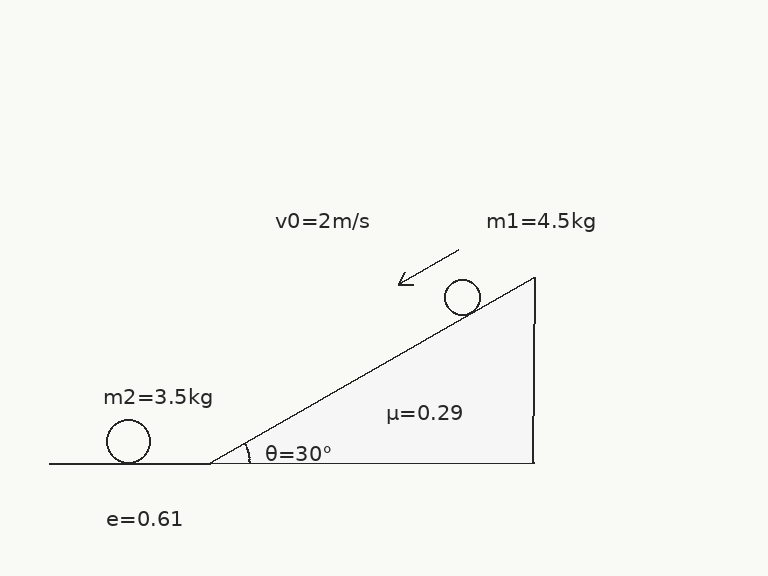ball: (104, 417, 152, 465), (442, 277, 482, 317)
ramp: (208, 274, 535, 465)
